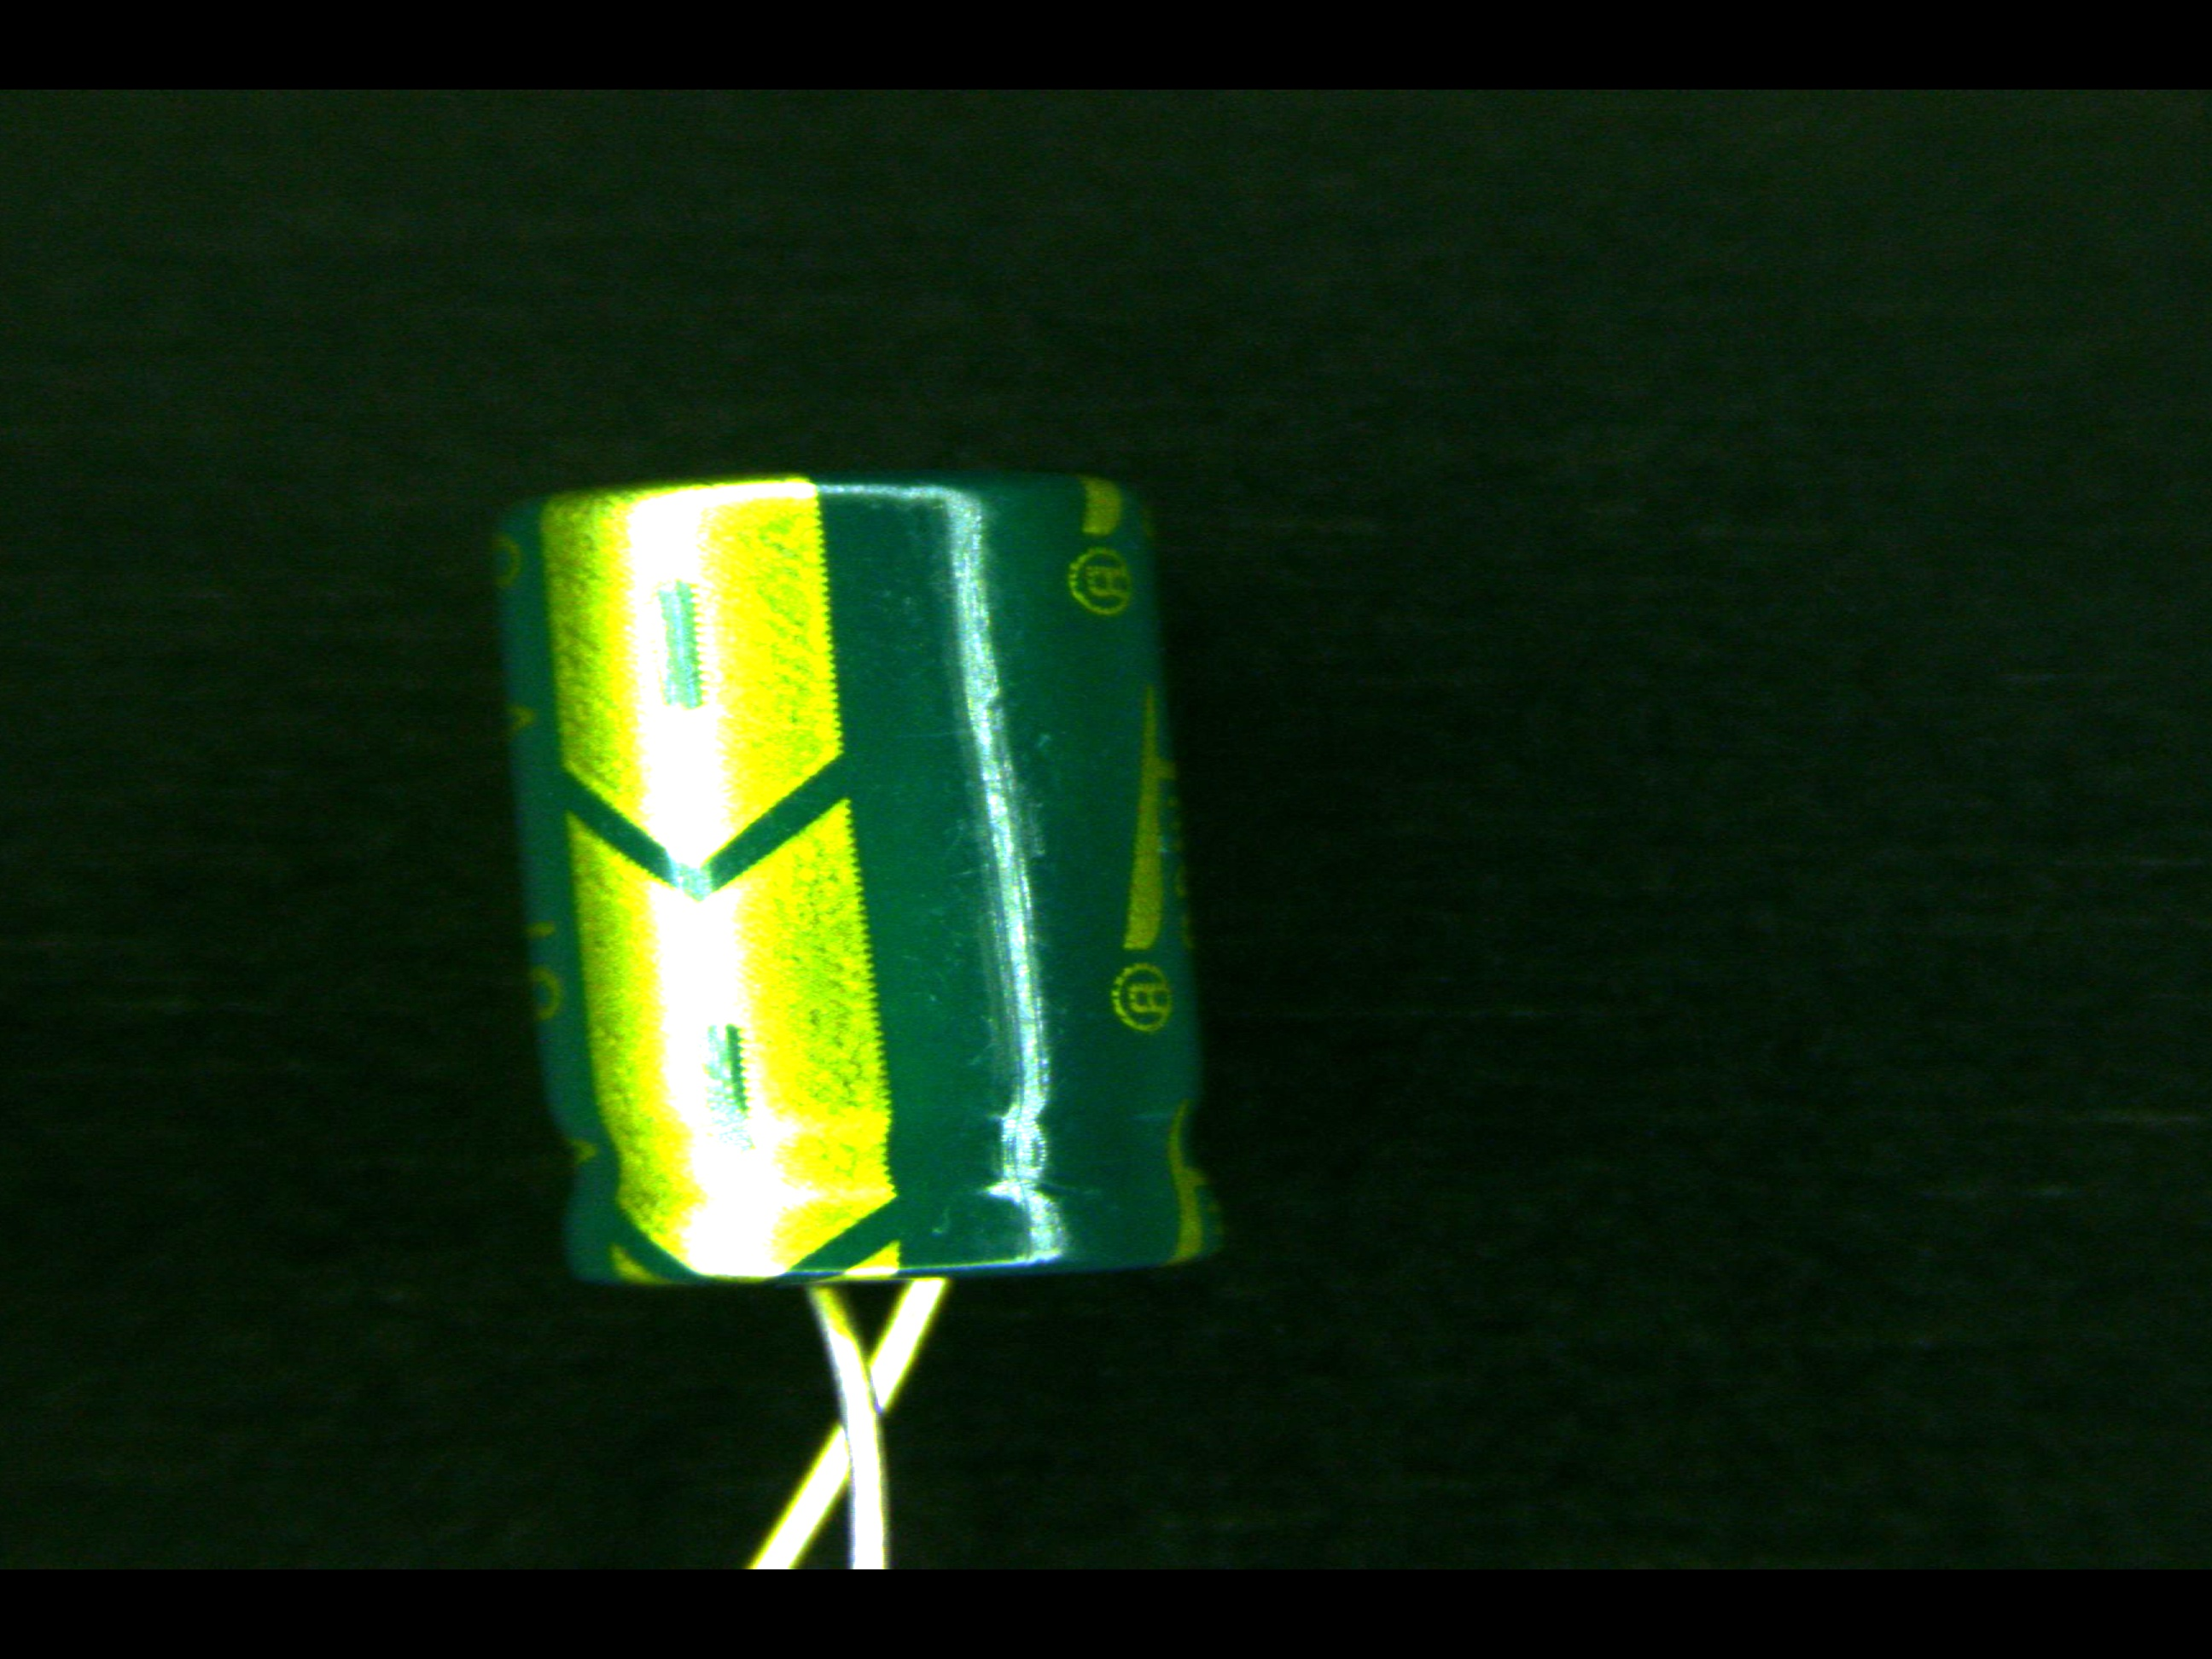c1: (486, 471, 1228, 1364)
